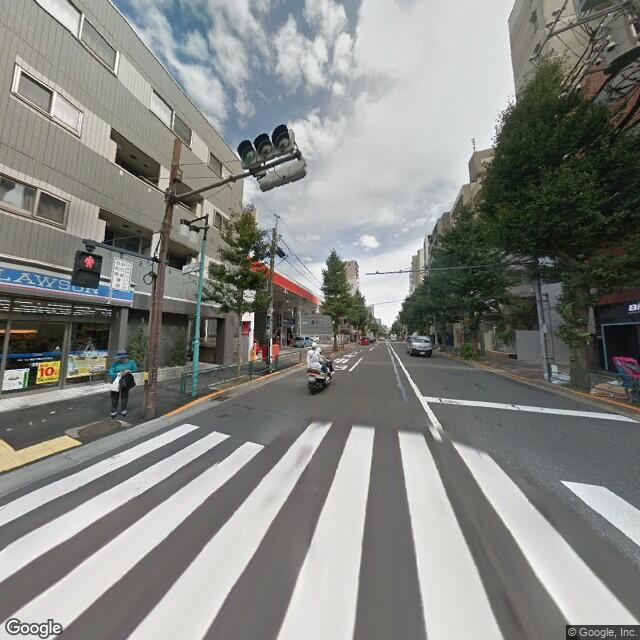lawson: (2, 250, 130, 310)
